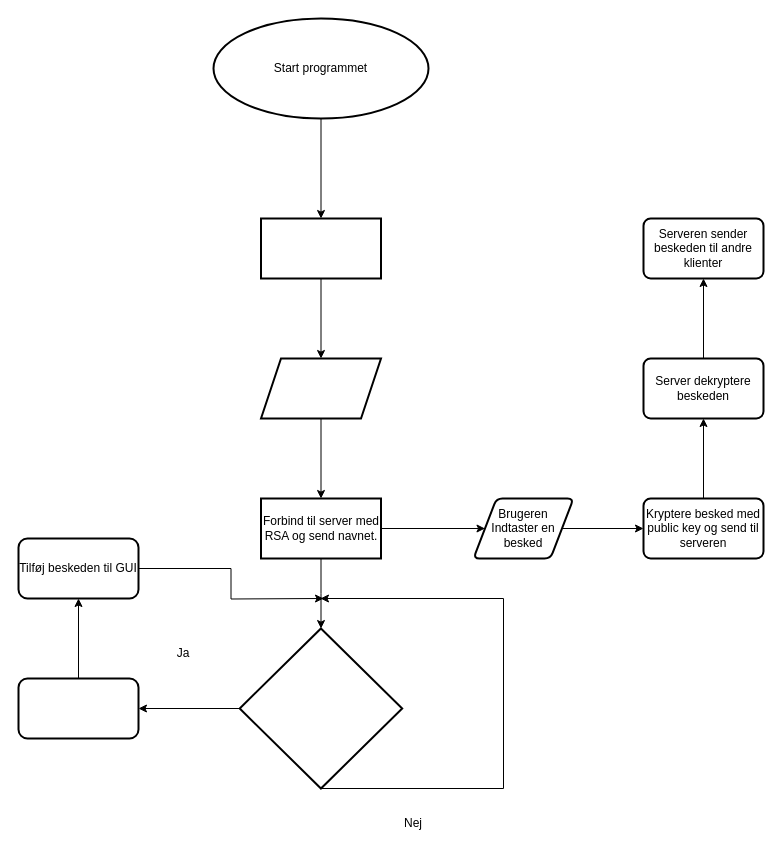
Image size: 781x855. Some labels were removed from this diagram. The shapes that lost their labels are listed below. From the top down, each one's box as (x1, y1, x2, y2) in pixels, then its label:
(260, 217, 382, 279): Indlæs Public Key
(260, 357, 382, 419): Input fra bruger: Spørg efter navn
(17, 677, 139, 739): Dekryptere med private key
(238, 627, 403, 789): Check om der kommet nye packets fra severen
